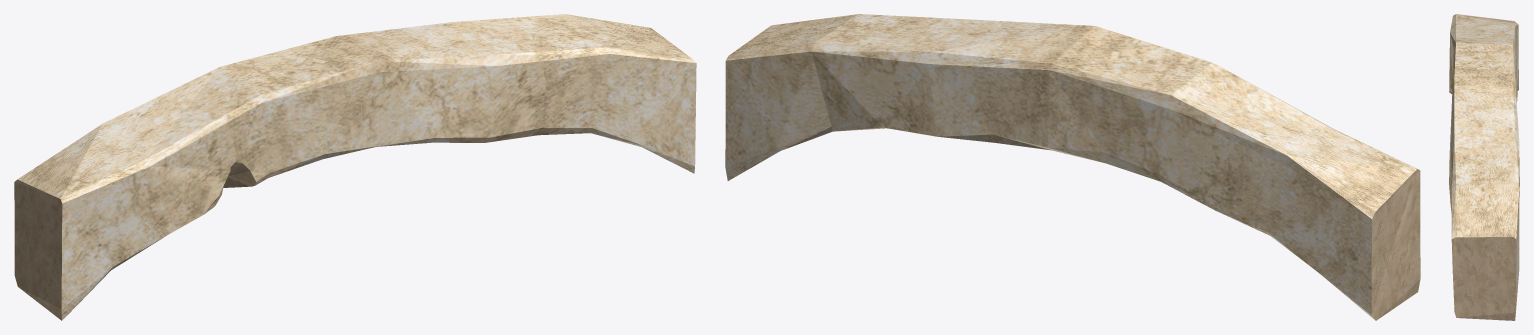
File: thm_tato_imprv_over_beam_s02_l0.fbx
The picture shows the model from 3 angles, left to right: view 1: azimuth 30°, elevation 25°; view 2: azimuth 150°, elevation 25°; view 3: azimuth 270°, elevation 25°; orthographic projection. The views are drawn at different scales.
Visible parts, largest first — view 1: mesh_node; view 2: mesh_node; view 3: mesh_node.
Boxes of the visible parts, <box> form: mesh_node: <box>14,14,696,320</box>; mesh_node: <box>725,14,1420,320</box>; mesh_node: <box>1449,14,1519,320</box>.
Size of the model in its own units: 8.23 by 2.44 by 1.15.
2 materials, 2 textured.
